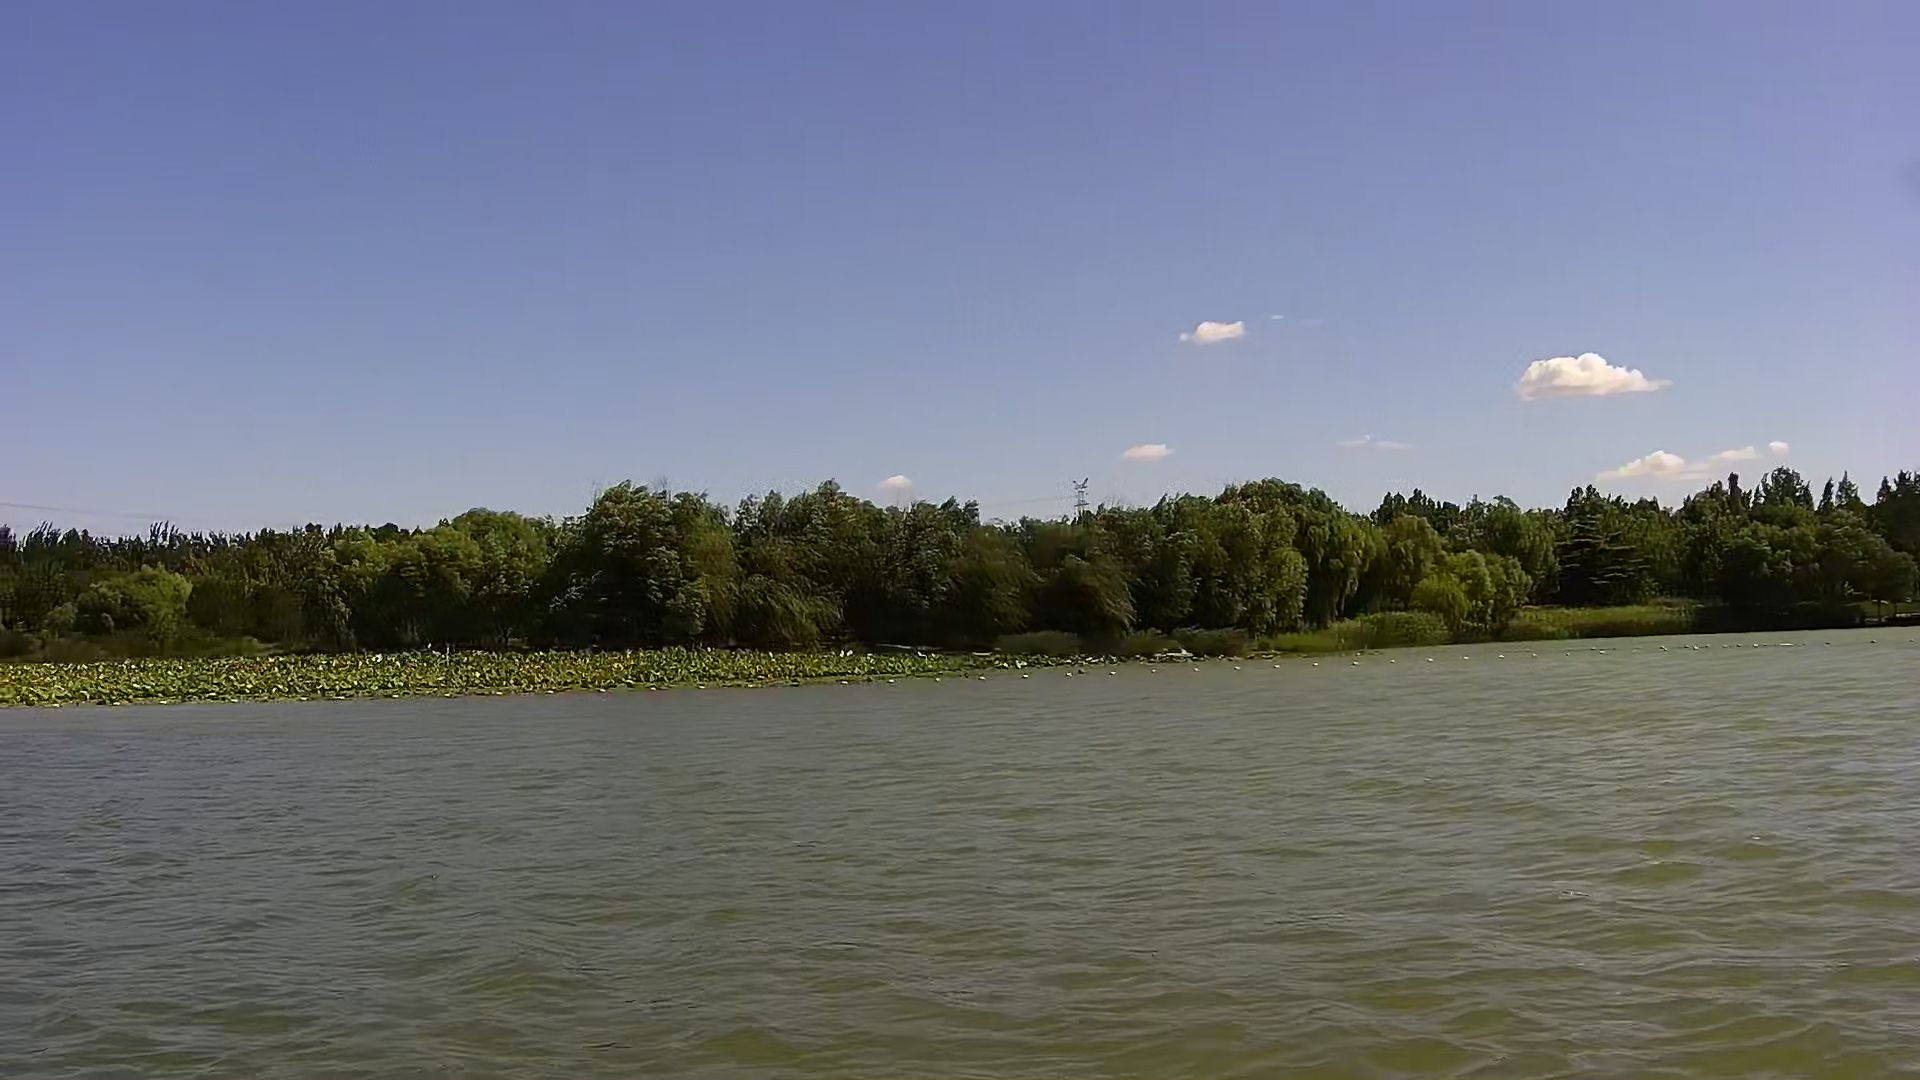grass: (1, 649, 1052, 705)
